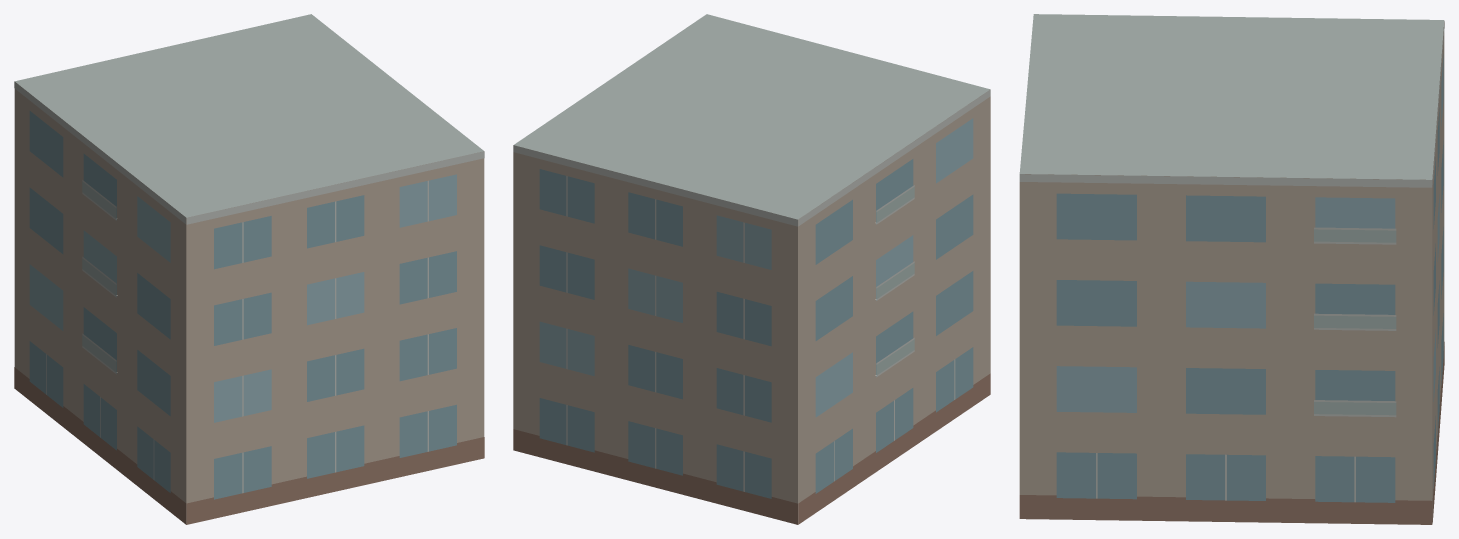
The model's file is survey-upis-32990258.glb.
3 views of the same model, side by side, from view 1: azimuth 30°, elevation 25°; view 2: azimuth 150°, elevation 25°; view 3: azimuth 270°, elevation 25° (orthographic). The views are drawn at different scales.
Visible parts, largest first — view 1: survey-upis-32990258.tmp; view 2: survey-upis-32990258.tmp; view 3: survey-upis-32990258.tmp.
Boxes of the visible parts, x1,y1,x2,y2 form: survey-upis-32990258.tmp: (14, 14, 484, 524); survey-upis-32990258.tmp: (513, 14, 990, 524); survey-upis-32990258.tmp: (1019, 14, 1444, 524).
Size of the model in its own units: 10.94 by 10.6 by 11.84.
